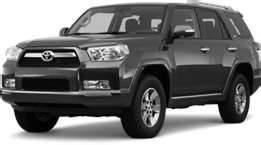car: (1, 1, 261, 141)
